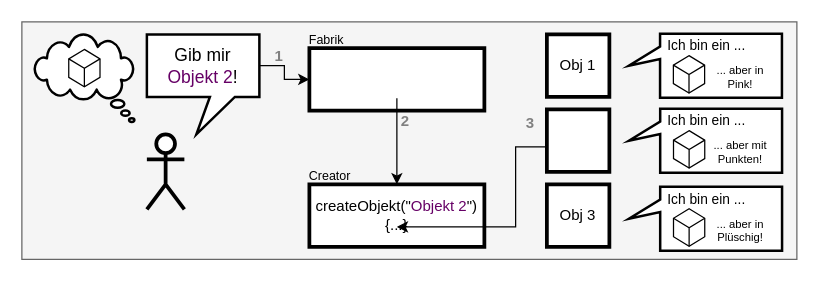
The diagram is 819 pixels wide and 281 high, and some of its shapes have lost their labels. Each missing label, with the centre of its shape:
getObjekt(" Objekt 2 ") {...}: [396,79]
Obj 2: [577,140]
